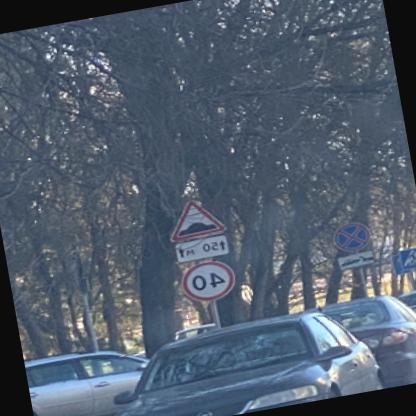crosswalk: (398, 243, 415, 272)
speedlimit: (182, 255, 240, 302)
